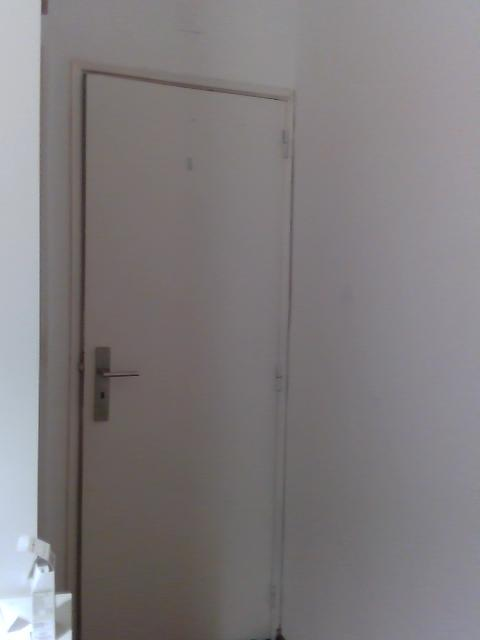door: (84, 73, 297, 640)
